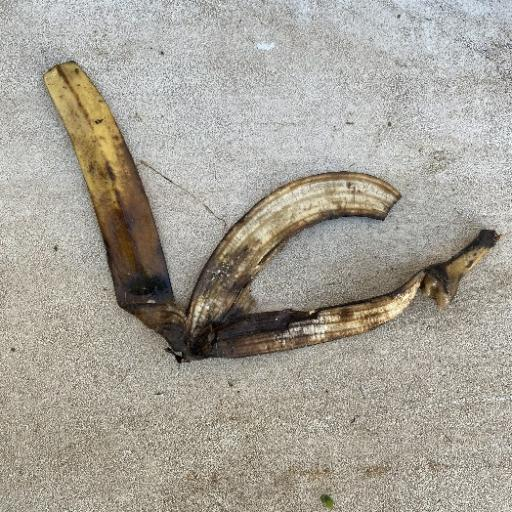Waste: (40, 58, 500, 364)
